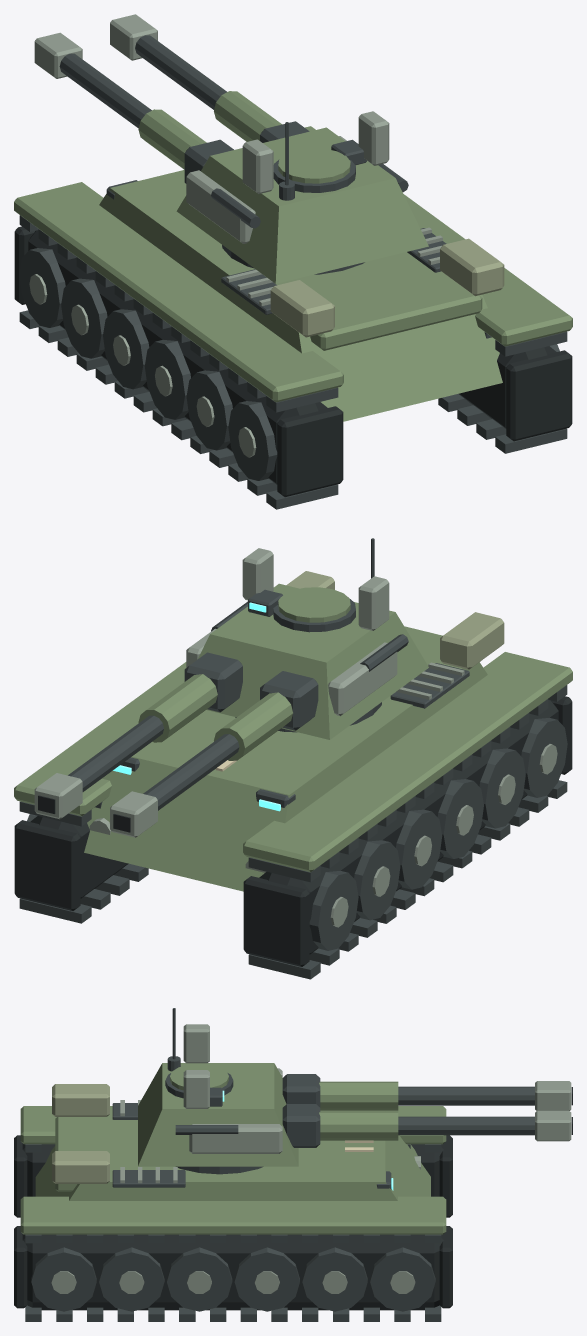
Rendered from tank_lynx_mk2.glb.
3 views of the same model, one above another, from view 1: azimuth 30°, elevation 25°; view 2: azimuth 150°, elevation 25°; view 3: azimuth 270°, elevation 25° (orthographic). The views are drawn at different scales.
Visible parts, largest first — view 1: tank_lynx_mk2_TankPaint.005, tank_lynx_mk2_RunningGear.005, tank_lynx_mk2_TankPaint.006, tank_lynx_mk2_TankTracks.005, tank_lynx_mk2_RunningGear.006, tank_lynx_mk2_ArmorEdges.006, tank_lynx_mk2_Canvas.004, tank_lynx_mk2_ArmorEdges.005; view 2: tank_lynx_mk2_TankPaint.005, tank_lynx_mk2_RunningGear.005, tank_lynx_mk2_TankPaint.006, tank_lynx_mk2_TankTracks.005, tank_lynx_mk2_RunningGear.006, tank_lynx_mk2_ArmorEdges.006, tank_lynx_mk2_ArmorEdges.005, tank_lynx_mk2_Canvas.004, tank_lynx_mk2_TankTracks.006; view 3: tank_lynx_mk2_TankPaint.005, tank_lynx_mk2_RunningGear.005, tank_lynx_mk2_TankTracks.005, tank_lynx_mk2_TankPaint.006, tank_lynx_mk2_RunningGear.006, tank_lynx_mk2_ArmorEdges.006, tank_lynx_mk2_Canvas.004, tank_lynx_mk2_ArmorEdges.005.
Part boxes in pixels (bbox=[...]): tank_lynx_mk2_TankPaint.005: bbox=[14, 126, 572, 421]; tank_lynx_mk2_RunningGear.005: bbox=[19, 180, 567, 509]; tank_lynx_mk2_TankPaint.006: bbox=[138, 91, 428, 283]; tank_lynx_mk2_TankTracks.005: bbox=[14, 226, 572, 497]; tank_lynx_mk2_RunningGear.006: bbox=[59, 35, 408, 274]; tank_lynx_mk2_ArmorEdges.006: bbox=[34, 14, 389, 243]; tank_lynx_mk2_Canvas.004: bbox=[270, 238, 504, 337]; tank_lynx_mk2_ArmorEdges.005: bbox=[29, 227, 442, 457]; tank_lynx_mk2_TankPaint.005: bbox=[14, 626, 572, 891]; tank_lynx_mk2_RunningGear.005: bbox=[19, 663, 567, 979]; tank_lynx_mk2_TankPaint.006: bbox=[138, 583, 428, 760]; tank_lynx_mk2_TankTracks.005: bbox=[14, 696, 572, 966]; tank_lynx_mk2_RunningGear.006: bbox=[68, 538, 408, 810]; tank_lynx_mk2_ArmorEdges.006: bbox=[34, 548, 397, 837]; tank_lynx_mk2_ArmorEdges.005: bbox=[89, 662, 557, 927]; tank_lynx_mk2_Canvas.004: bbox=[286, 571, 504, 669]; tank_lynx_mk2_TankTracks.006: bbox=[38, 795, 130, 832]; tank_lynx_mk2_TankPaint.005: bbox=[20, 1106, 446, 1234]; tank_lynx_mk2_RunningGear.005: bbox=[25, 1103, 441, 1321]; tank_lynx_mk2_TankTracks.005: bbox=[14, 1135, 452, 1310]; tank_lynx_mk2_TankPaint.006: bbox=[138, 1063, 398, 1166]; tank_lynx_mk2_RunningGear.006: bbox=[165, 1008, 534, 1174]; tank_lynx_mk2_ArmorEdges.006: bbox=[183, 1024, 571, 1153]; tank_lynx_mk2_Canvas.004: bbox=[52, 1084, 109, 1183]; tank_lynx_mk2_ArmorEdges.005: bbox=[51, 1100, 420, 1293].
Size of the model in its own units: 2.26 by 2.09 by 4.44.
